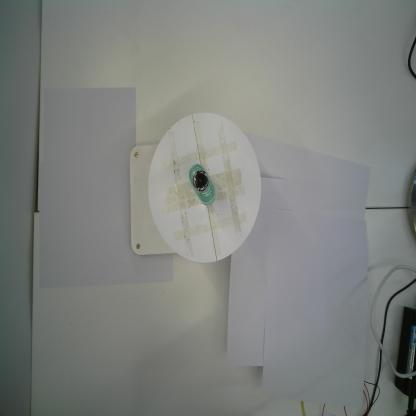Personal Hygiene: (187, 163, 216, 208)
